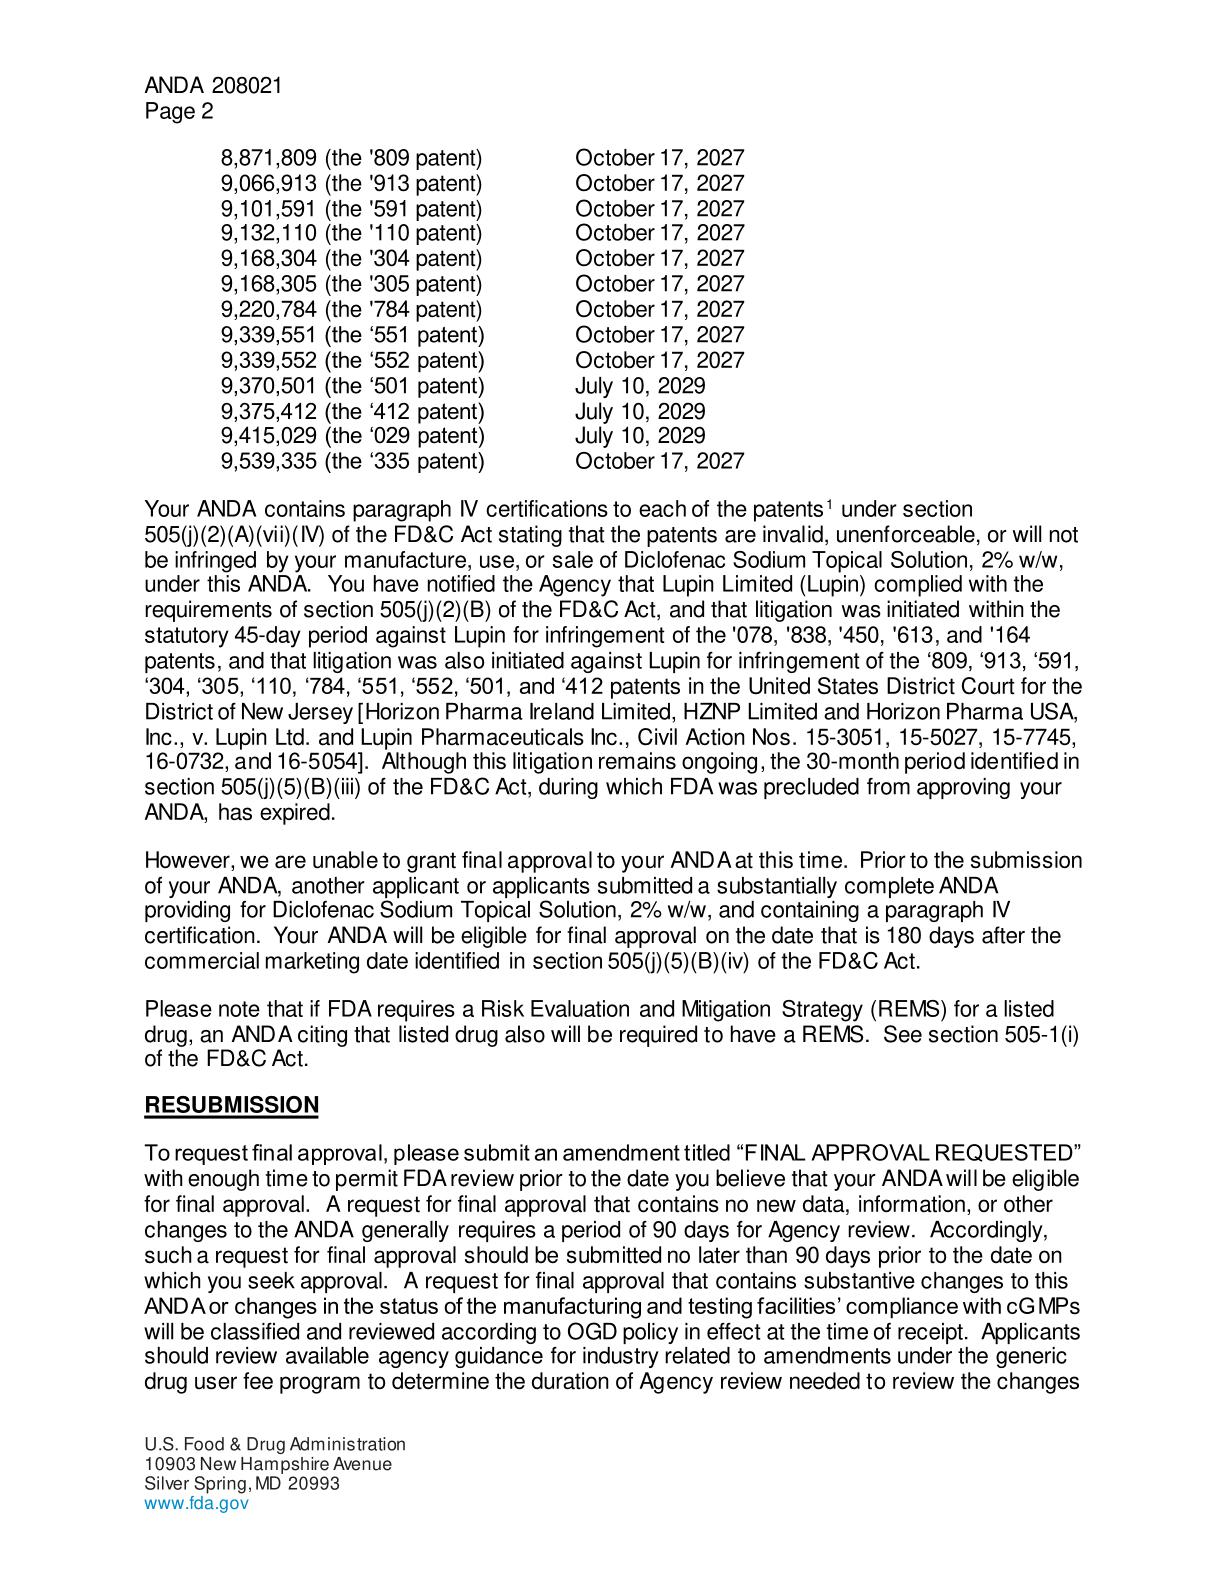nolines: (213, 141, 751, 478)
